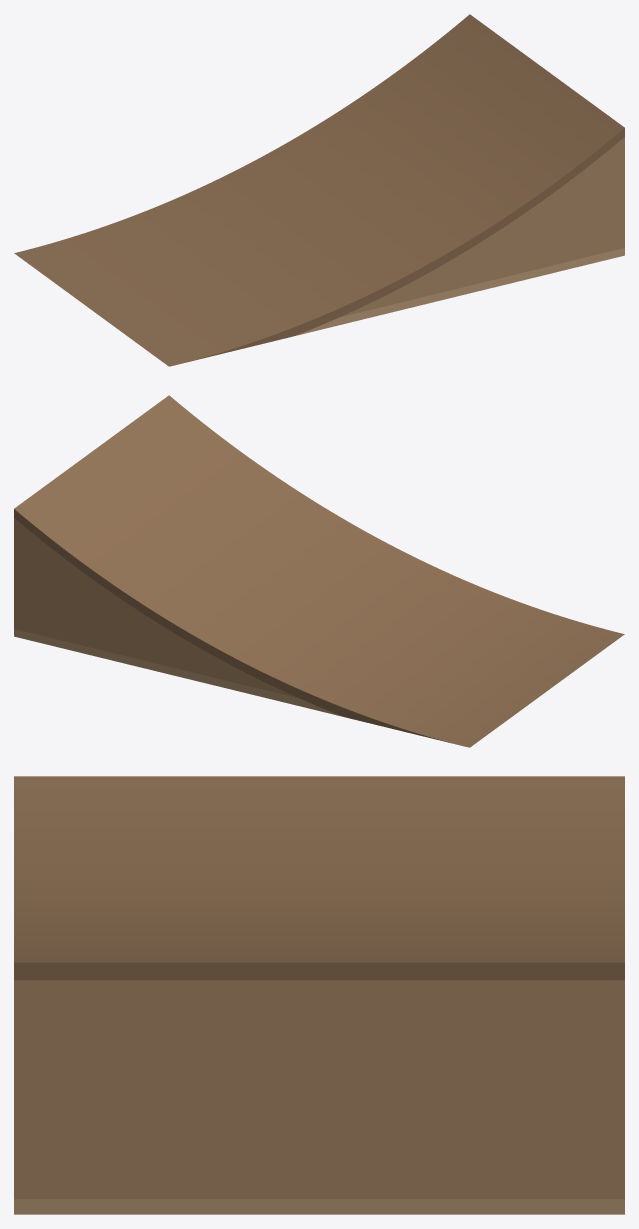
File: DR_Prop_JumpRamp.fbx
The picture shows the model from 3 angles, top to bottom: view 1: azimuth 30°, elevation 25°; view 2: azimuth 150°, elevation 25°; view 3: azimuth 270°, elevation 25°; orthographic projection. The views are drawn at different scales.
Visible parts, largest first — view 1: DR_Prop_JumpRamp; view 2: DR_Prop_JumpRamp; view 3: DR_Prop_JumpRamp.
Boxes of the visible parts, bbox=[...] form: DR_Prop_JumpRamp: bbox=[14, 14, 624, 366]; DR_Prop_JumpRamp: bbox=[14, 395, 624, 747]; DR_Prop_JumpRamp: bbox=[14, 776, 624, 1214].
Bounding box in the file's own units: 1.87 × 0.5 × 1.1.
